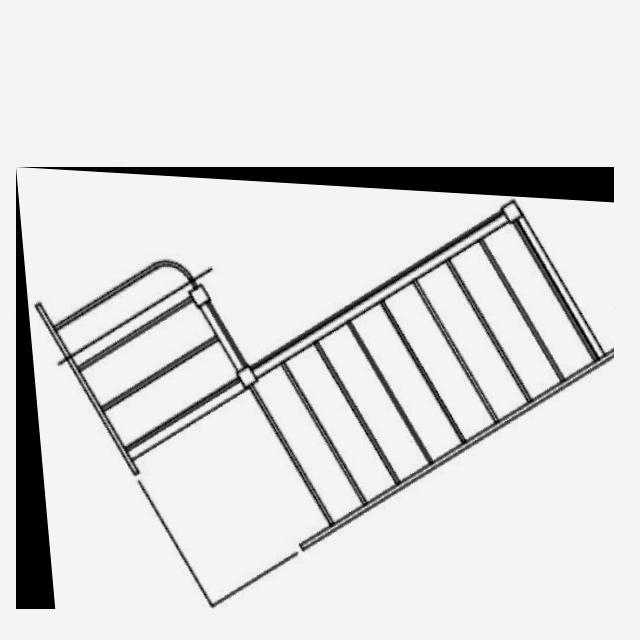stair: (16, 168, 614, 610)
